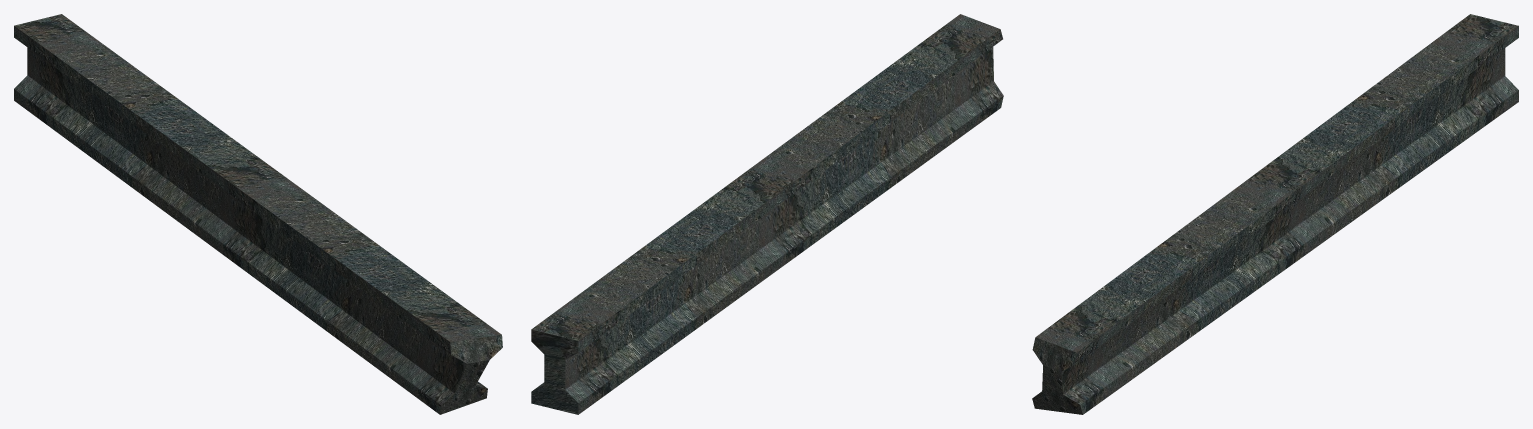
Rendered from prop_rubble_bar_big_02.glb.
3 views of the same model, side by side, from view 1: azimuth 30°, elevation 25°; view 2: azimuth 150°, elevation 25°; view 3: azimuth 330°, elevation 25° (orthographic). The views are drawn at different scales.
Size of the model in its own units: 5.76 by 7.98 by 83.62.
1 material, 1 textured.
